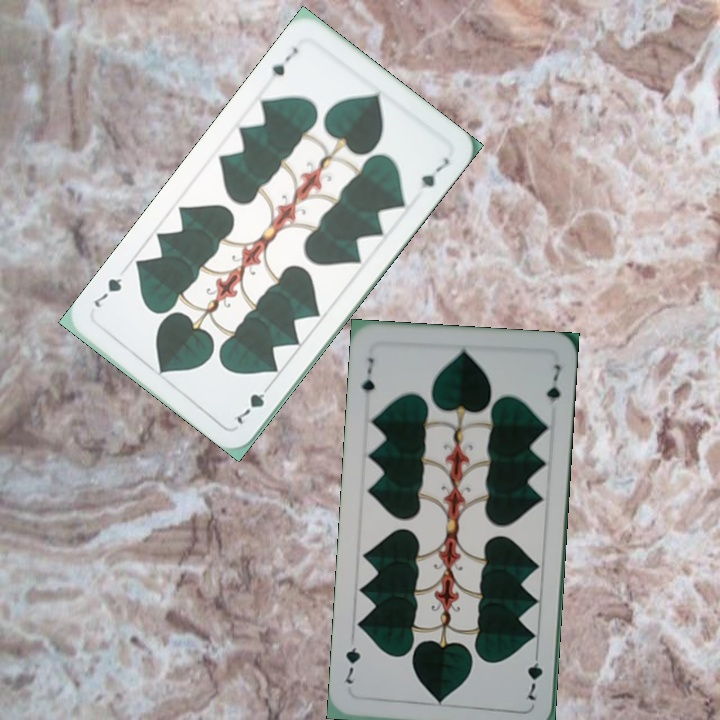G7: (232, 378, 275, 428), (523, 646, 546, 703), (268, 42, 301, 80), (357, 353, 377, 396)
